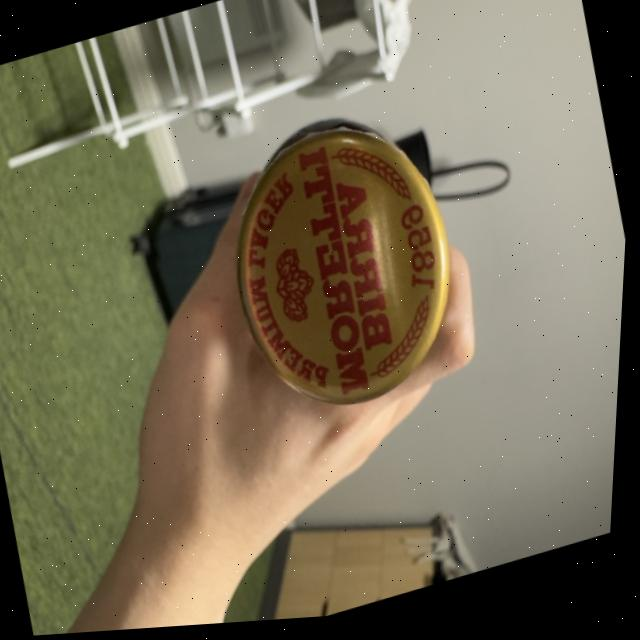beer: (199, 87, 489, 444)
